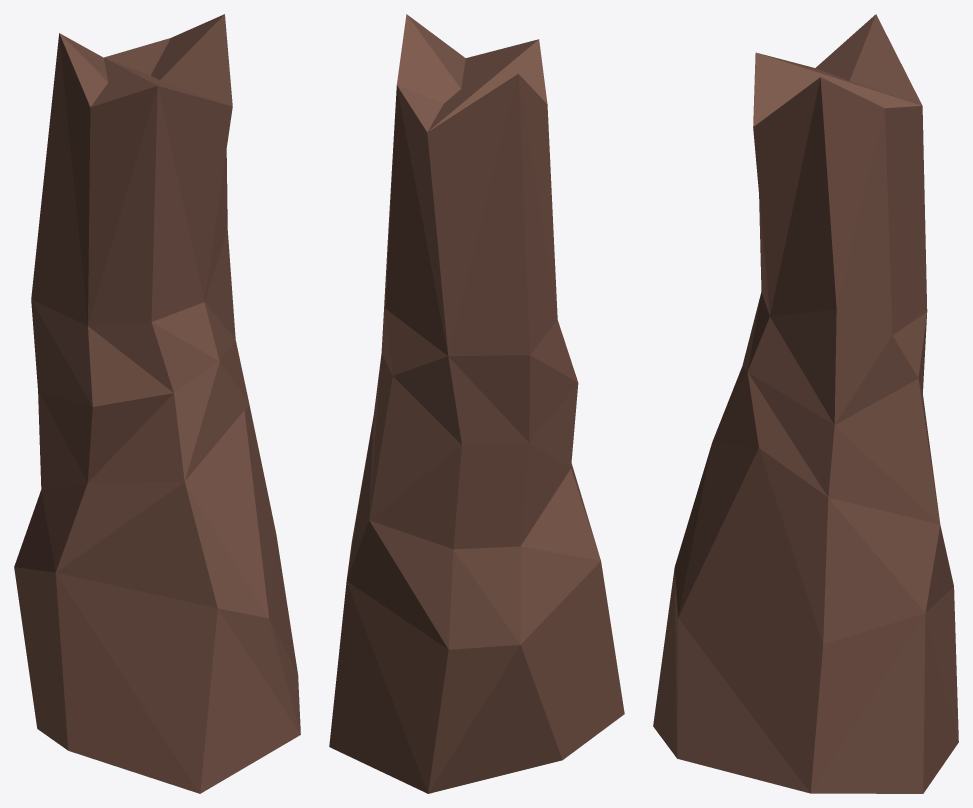
3 renders of one model, left to right at view 1: azimuth 30°, elevation 25°; view 2: azimuth 150°, elevation 25°; view 3: azimuth 270°, elevation 25°, orthographic.
Visible parts, largest first — view 1: mesh_472302405; view 2: mesh_472302405; view 3: mesh_472302405.
Part boxes in pixels (box(x1,y1,x2,y2)): mesh_472302405: box(14, 14, 300, 793); mesh_472302405: box(329, 14, 624, 793); mesh_472302405: box(653, 14, 958, 793).
Bounding box in the file's own units: 6.06 × 15.92 × 6.22.
